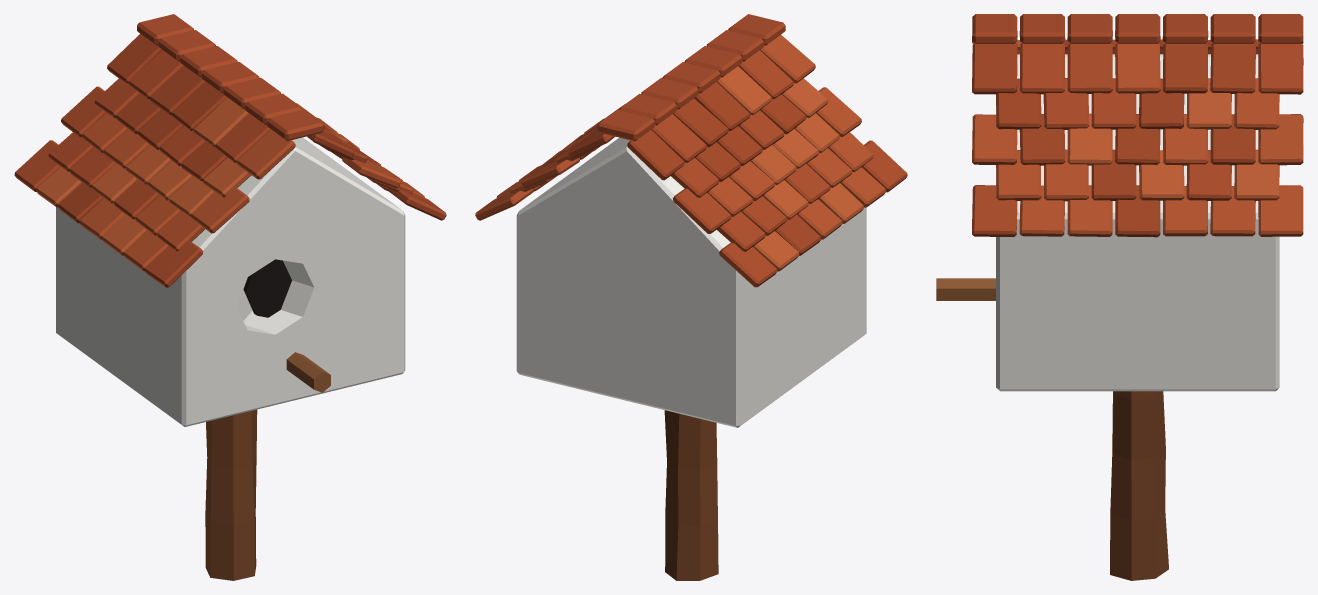
The model's file is starling.glb.
The picture shows the model from 3 angles, left to right: view 1: azimuth 30°, elevation 25°; view 2: azimuth 150°, elevation 25°; view 3: azimuth 270°, elevation 25°; orthographic projection. The views are drawn at different scales.
Visible parts, largest first — view 1: Birdhouse; view 2: Birdhouse; view 3: Birdhouse.
Boxes of the visible parts, left/top/right/bottom form: Birdhouse: left=14, top=14, right=446, bottom=580; Birdhouse: left=475, top=14, right=907, bottom=580; Birdhouse: left=936, top=14, right=1303, bottom=580.
Size of the model in its own units: 1.15 by 1.91 by 1.17.
